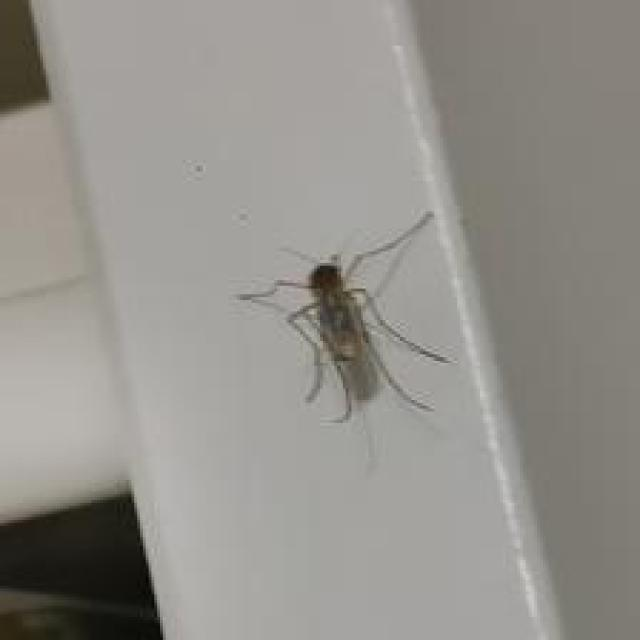Culex: (235, 208, 456, 466)
